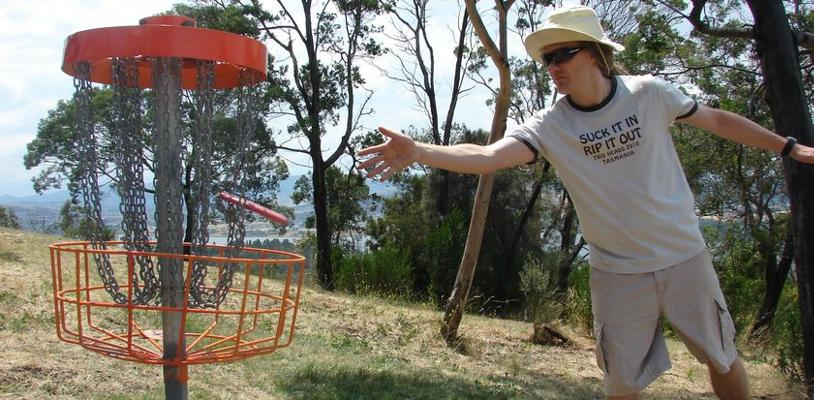person: (355, 7, 814, 400)
